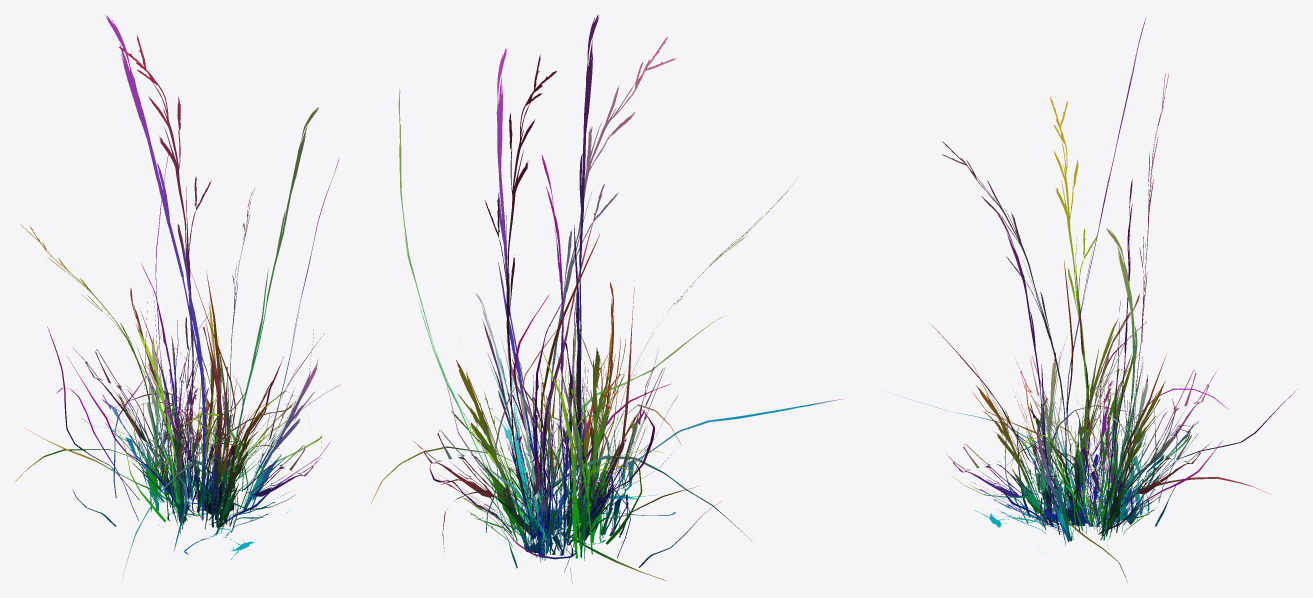
The model's file is Thatching_Grass_uddmcgbia_Raw_uddmcgbia_VarA_LOD0.fbx.
3 renders of one model, left to right at view 1: azimuth 30°, elevation 25°; view 2: azimuth 150°, elevation 25°; view 3: azimuth 270°, elevation 25°, orthographic. The views are drawn at different scales.
Parts seen in each view (by area): view 1: _2d7f_VarA_High; view 2: _2d7f_VarA_High; view 3: _2d7f_VarA_High.
Part boxes in pixels (<box>): _2d7f_VarA_High: <box>15,15,340,581</box>; _2d7f_VarA_High: <box>370,15,843,582</box>; _2d7f_VarA_High: <box>907,18,1295,582</box>.
Bounding box in the file's own units: 41.99 × 61.45 × 47.55.
